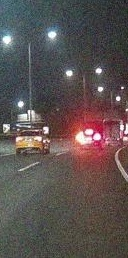L_light: (16, 136, 23, 143)
R_light: (33, 136, 42, 142)
T_light: (28, 131, 35, 132)
night-no: (15, 129, 43, 155)
